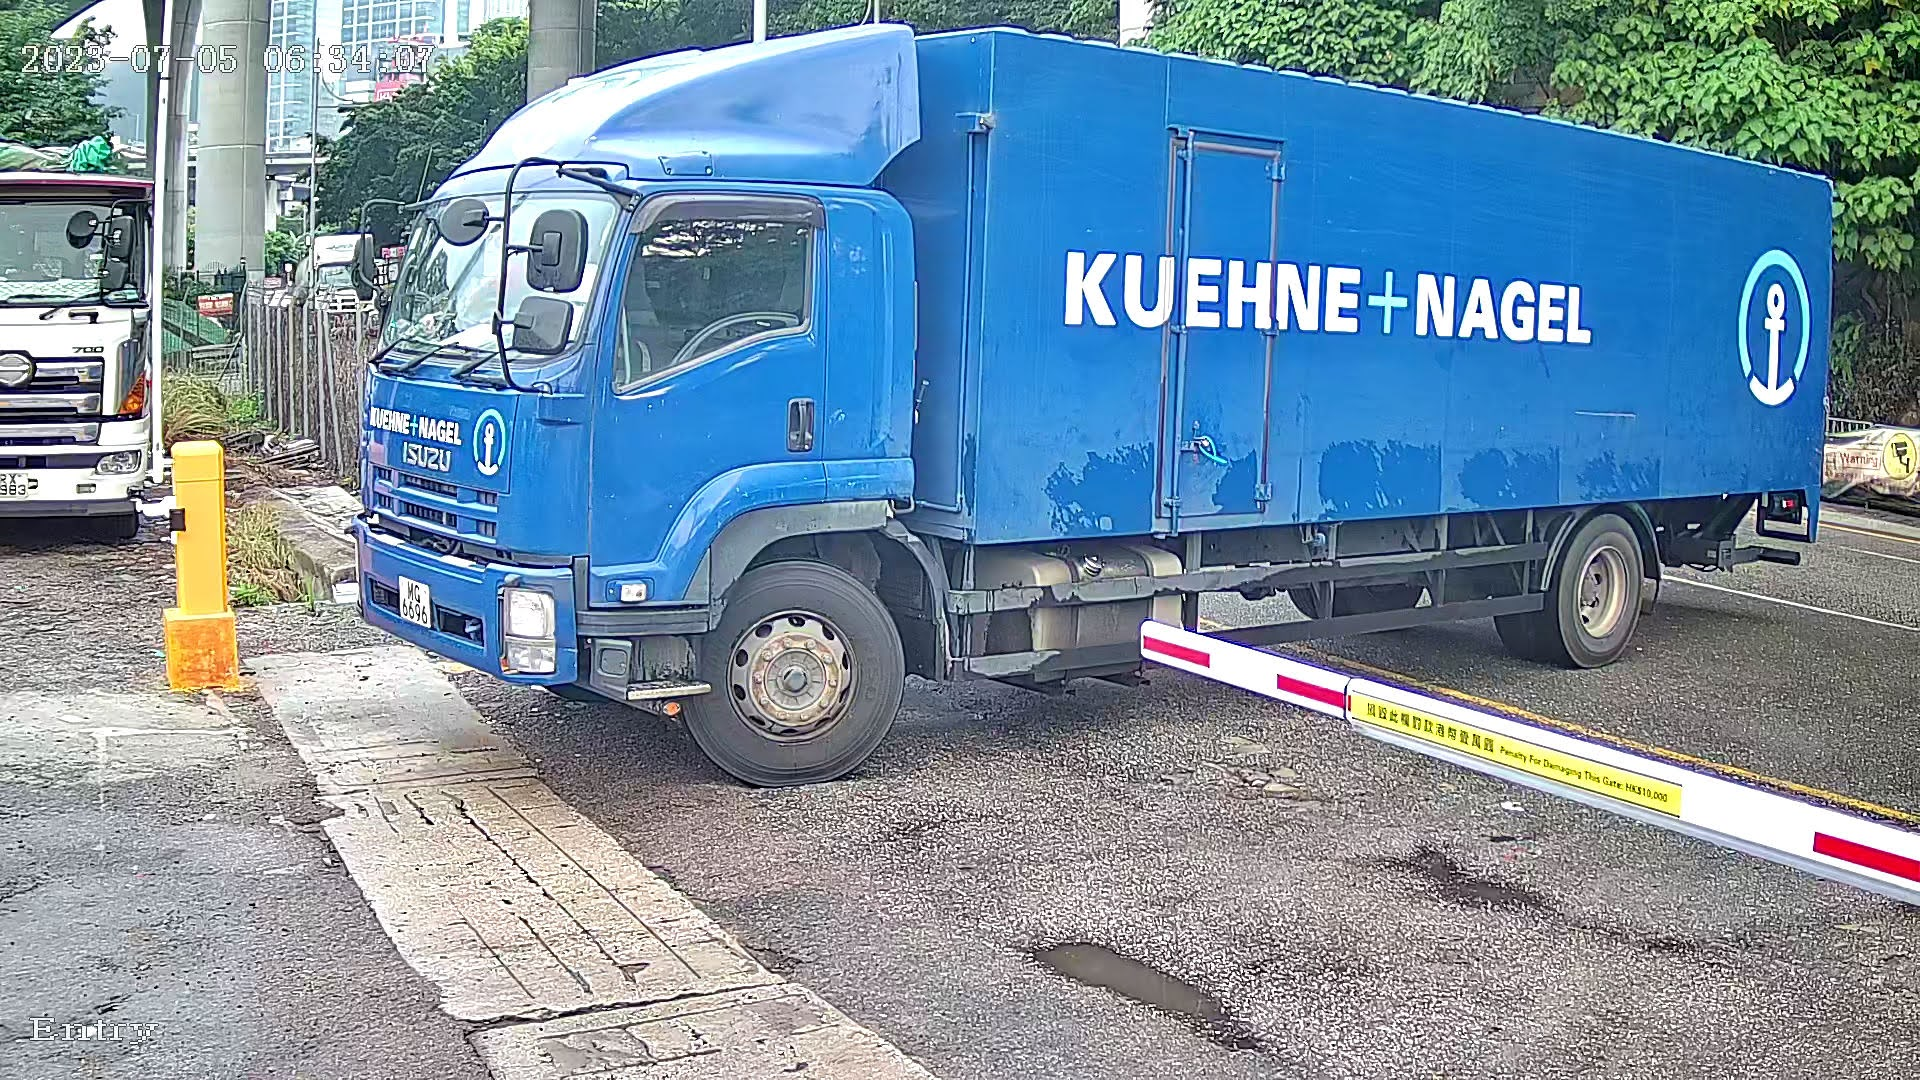truck_large: (309, 11, 1888, 799)
